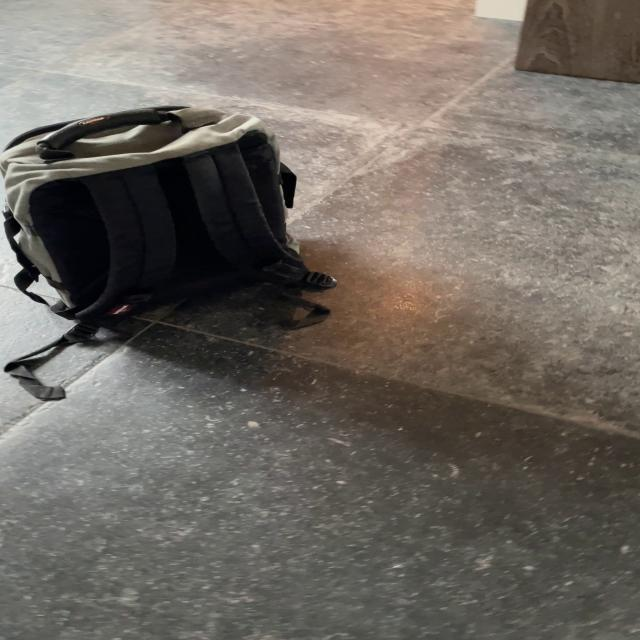backpack: (1, 97, 334, 346)
